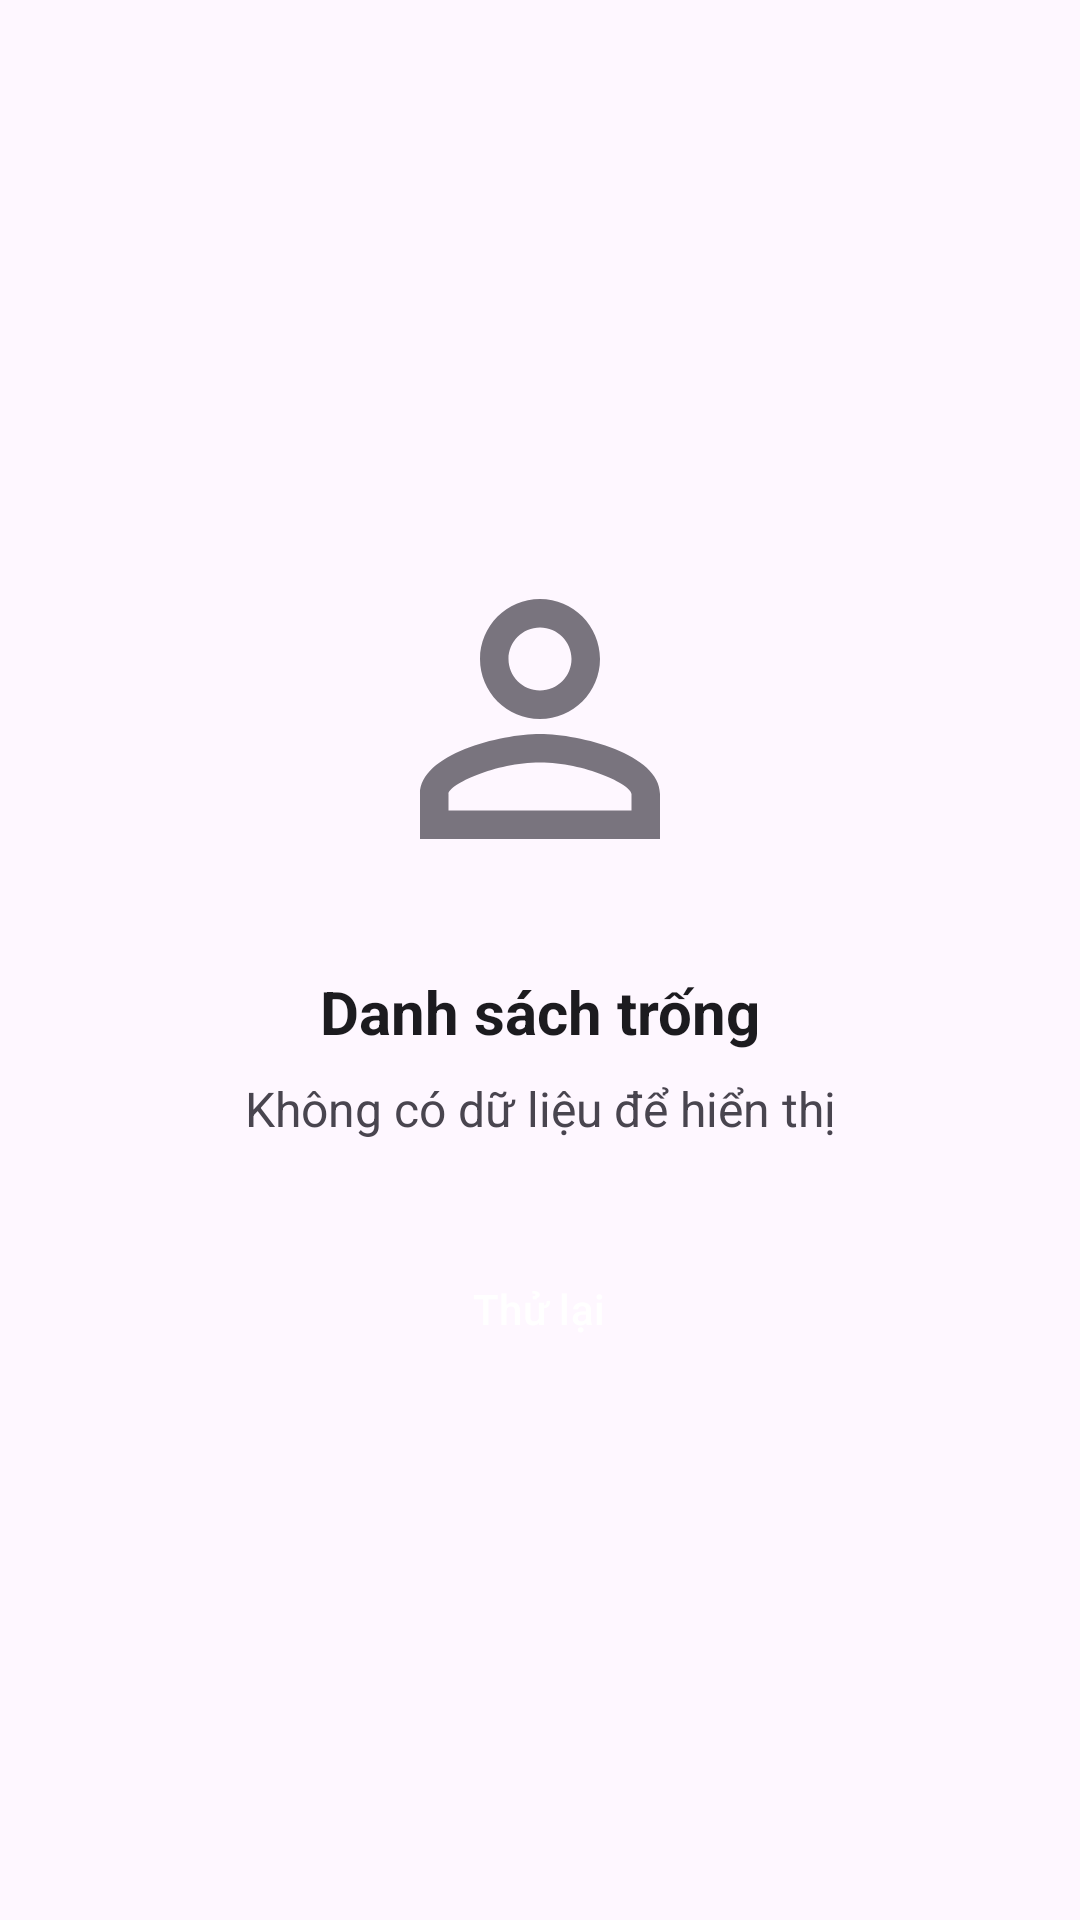

Icons on this 1080px x 1920px Android screen, each with the point to tap as (x=x, y=y):
empty student: (x=540, y=719)
